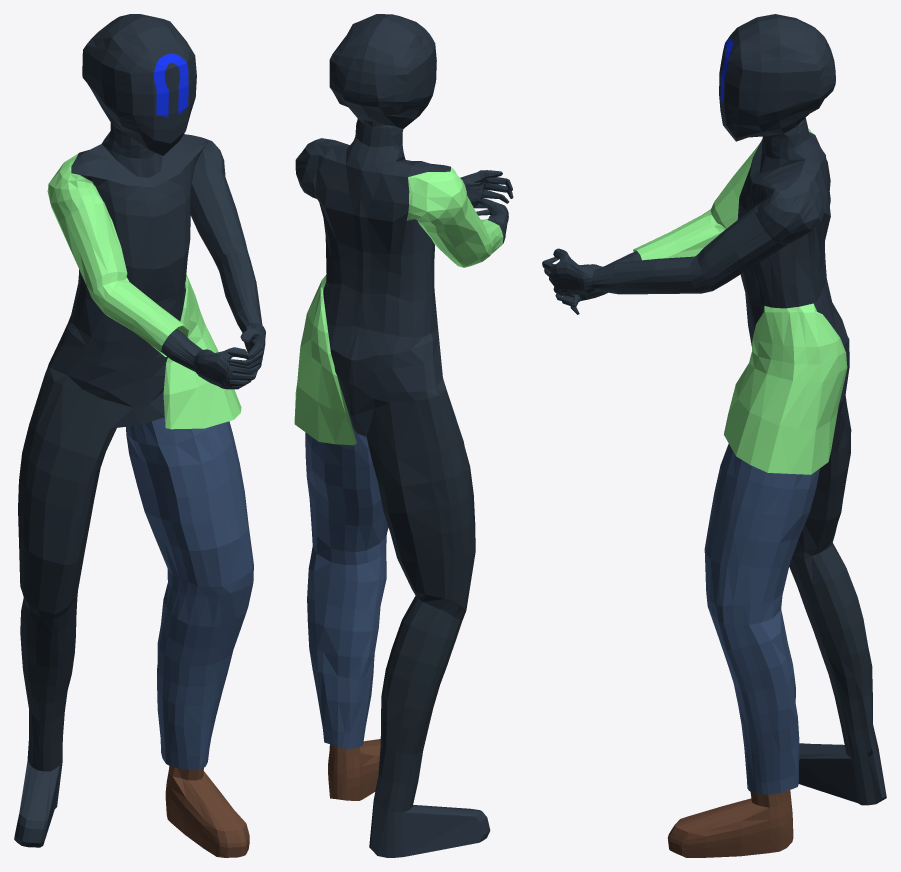
The model's file is Mar_WF_000015.obj.
The picture shows the model from 3 angles, left to right: view 1: azimuth 30°, elevation 25°; view 2: azimuth 150°, elevation 25°; view 3: azimuth 270°, elevation 25°; orthographic projection. The views are drawn at different scales.
Visible parts, largest first — view 1: Cube.000_Cube.001; view 2: Cube.000_Cube.001; view 3: Cube.000_Cube.001.
Boxes of the visible parts, bbox=[...] form: Cube.000_Cube.001: bbox=[14, 14, 265, 857]; Cube.000_Cube.001: bbox=[294, 14, 513, 857]; Cube.000_Cube.001: bbox=[542, 14, 886, 857].
Bounding box in the file's own units: 1.05 × 3.9 × 1.5.
